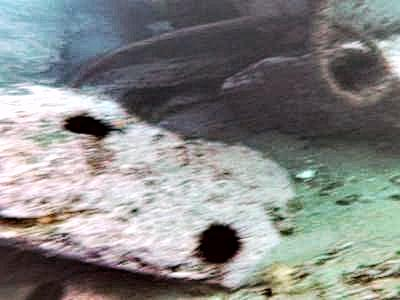urchin: (193, 220, 241, 264), (331, 52, 378, 89), (60, 112, 110, 137)
